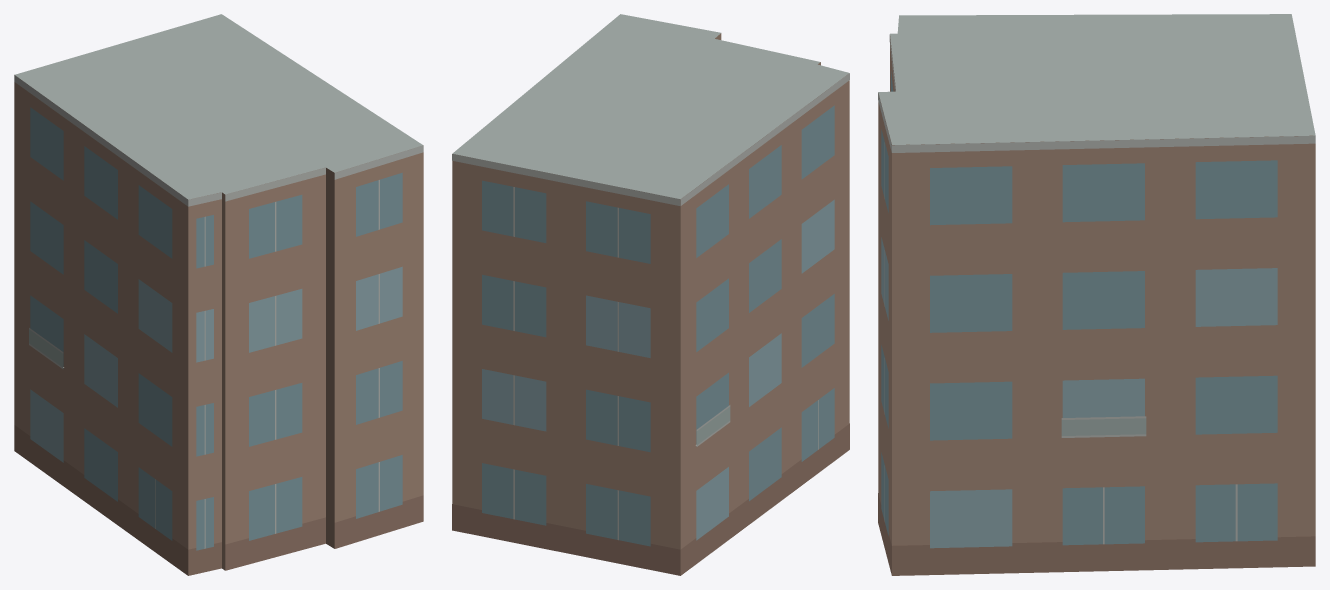
The model's file is survey-upis-32510541.glb.
3 views of the same model, side by side, from view 1: azimuth 30°, elevation 25°; view 2: azimuth 150°, elevation 25°; view 3: azimuth 270°, elevation 25° (orthographic). The views are drawn at different scales.
Visible parts, largest first — view 1: survey-upis-32510541.tmp; view 2: survey-upis-32510541.tmp; view 3: survey-upis-32510541.tmp.
Boxes of the visible parts, x1,y1,x2,y2 form: survey-upis-32510541.tmp: (14, 14, 423, 575); survey-upis-32510541.tmp: (452, 14, 849, 575); survey-upis-32510541.tmp: (878, 14, 1315, 575).
Bounding box in the file's own units: 8.58 × 13.1 × 12.07.
